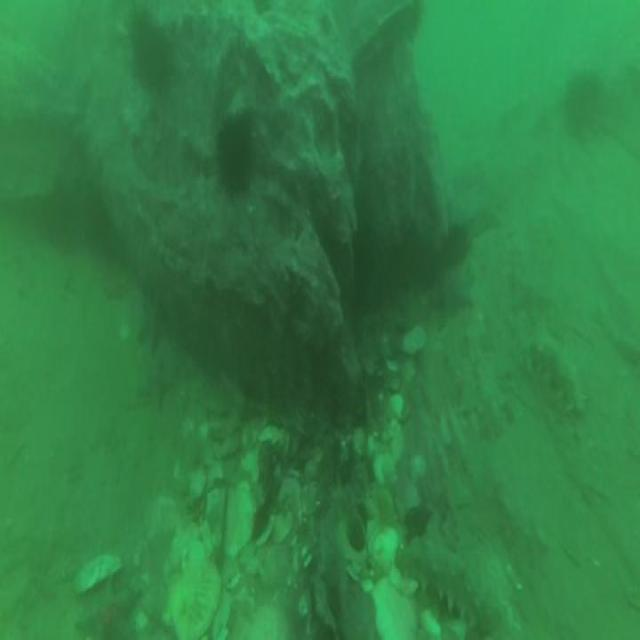echinus: (127, 20, 171, 91), (214, 115, 254, 193), (561, 72, 600, 138), (438, 226, 465, 264)
holothurian: (402, 535, 514, 640), (524, 330, 584, 419)
scallop: (171, 565, 219, 640), (74, 552, 121, 596)
starfish: (76, 583, 140, 640), (434, 264, 474, 324)
